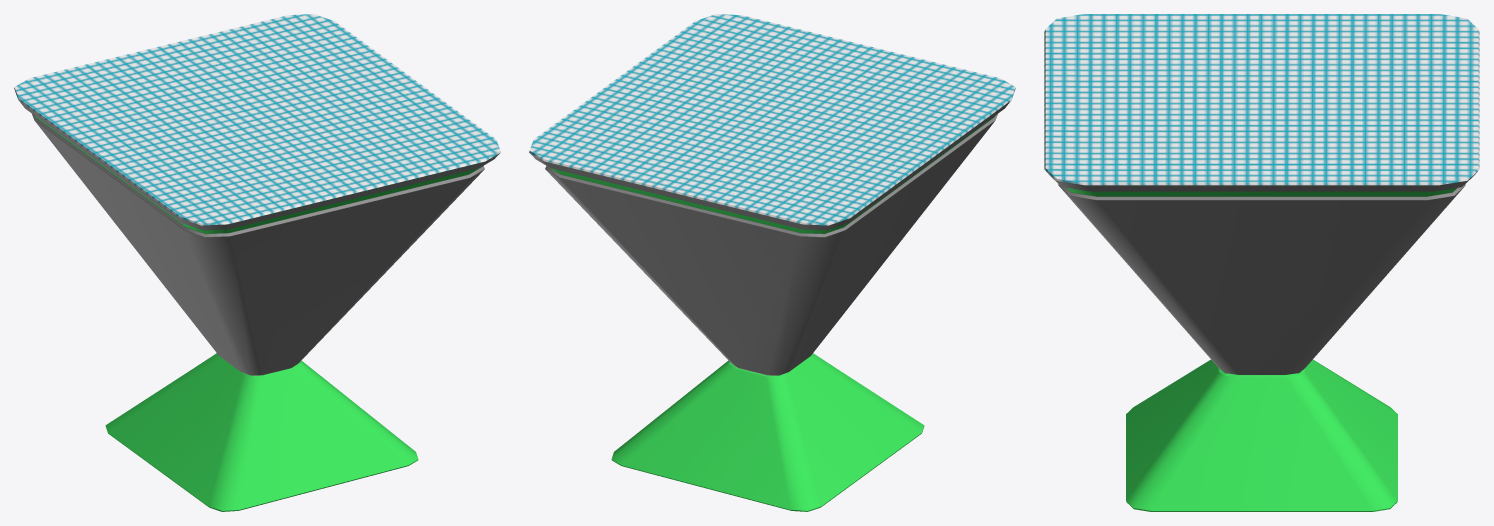
File: SM_Table_03.fbx
3 views of the same model, side by side, from view 1: azimuth 30°, elevation 25°; view 2: azimuth 150°, elevation 25°; view 3: azimuth 270°, elevation 25° (orthographic). The views are drawn at different scales.
Parts seen in each view (by area): view 1: SM_Table_03; view 2: SM_Table_03; view 3: SM_Table_03.
Boxes of the visible parts, x1,y1,x2,y2 form: SM_Table_03: (14, 14, 500, 511); SM_Table_03: (529, 14, 1015, 511); SM_Table_03: (1044, 14, 1479, 511).
Bounding box in the file's own units: 88.63 × 95.93 × 87.59.
